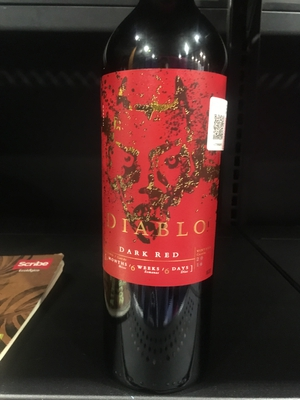diablo dark red: (85, 18, 235, 367)
